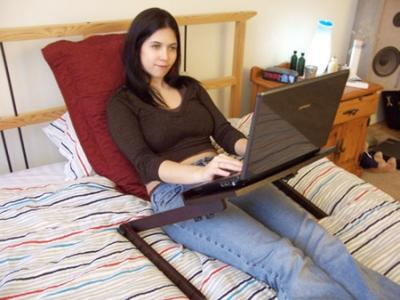person: (105, 8, 398, 300)
